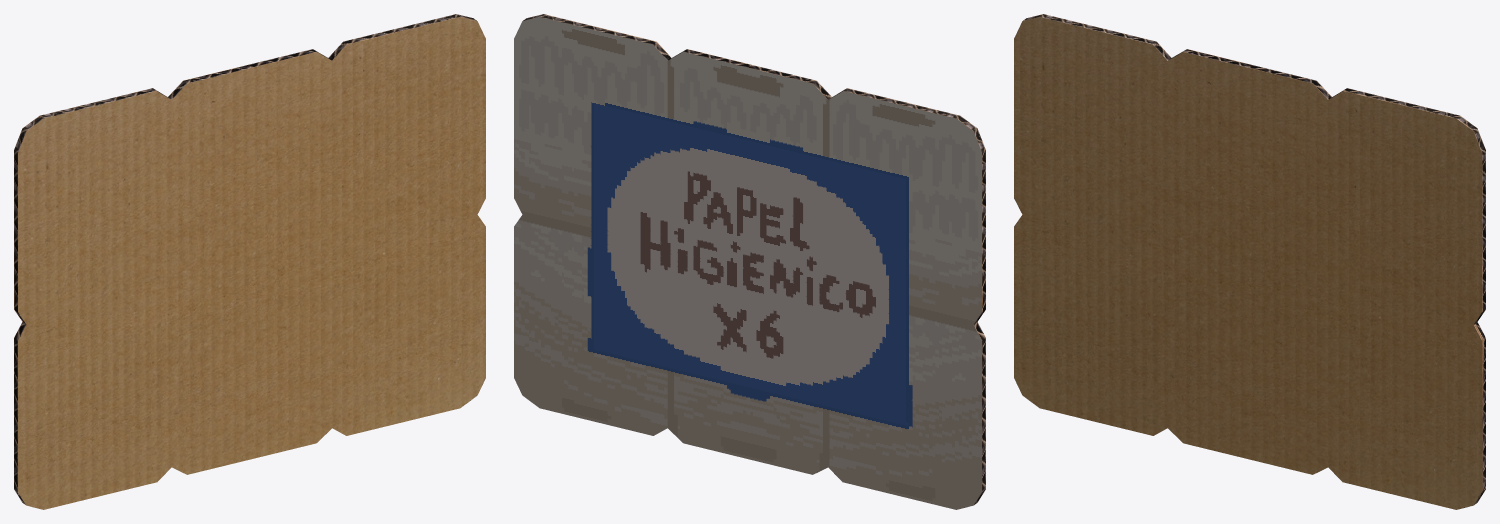
File: PAPEL HIGIENICO.glb
3 views of the same model, side by side, from view 1: azimuth 30°, elevation 25°; view 2: azimuth 150°, elevation 25°; view 3: azimuth 330°, elevation 25° (orthographic).
Parts seen in each view (by area): view 1: PAPEL HIGIENICO; view 2: PAPEL HIGIENICO; view 3: PAPEL HIGIENICO.
Boxes of the visible parts, <box> form: PAPEL HIGIENICO: <box>14,14,485,509</box>; PAPEL HIGIENICO: <box>514,14,985,509</box>; PAPEL HIGIENICO: <box>1014,14,1485,509</box>.
Size of the model in its own units: 6.12 by 4.89 by 0.09.
1 material, 1 textured.
